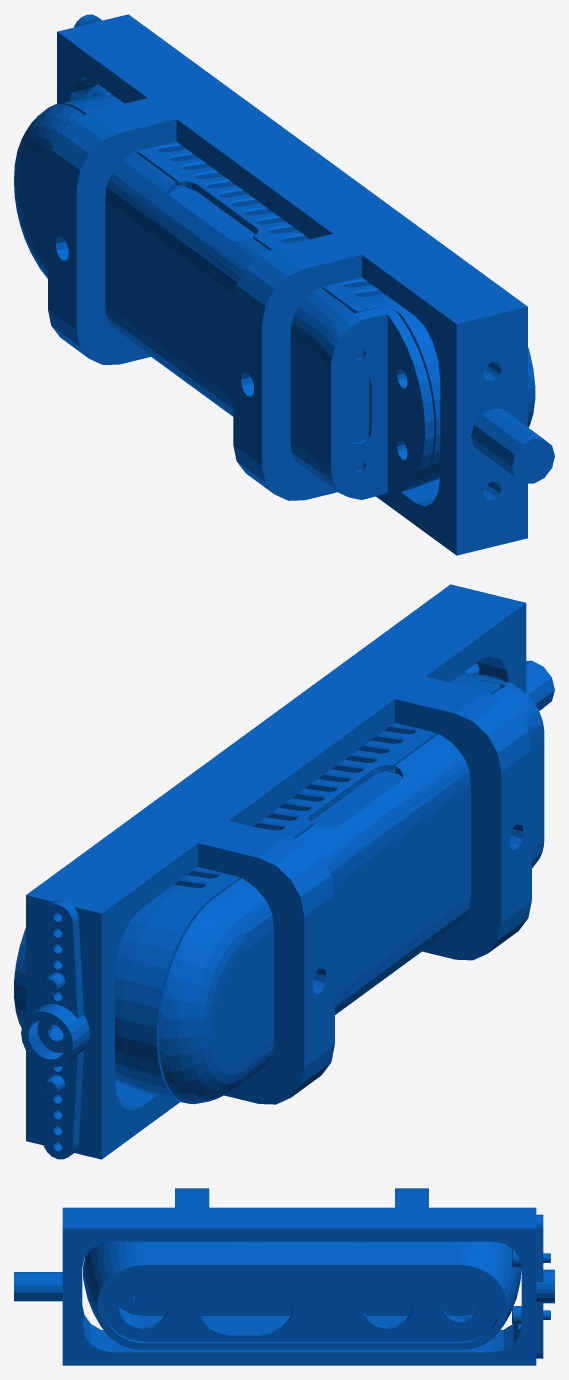
Rendered from rs_d435_unit1.dae.
3 views of the same model, one above another, from view 1: azimuth 30°, elevation 25°; view 2: azimuth 150°, elevation 25°; view 3: azimuth 270°, elevation 25° (orthographic). The views are drawn at different scales.
Visible parts, largest first — view 1: rs_d435_unit1; view 2: rs_d435_unit1; view 3: rs_d435_unit1.
Part boxes in pixels (x1=…): rs_d435_unit1: x1=14, y1=14, x2=554, y2=555; rs_d435_unit1: x1=14, y1=584, x2=554, y2=1159; rs_d435_unit1: x1=14, y1=1188, x2=554, y2=1365.
Bounding box in the file's own units: 0.029 × 0.1108 × 0.0321.
